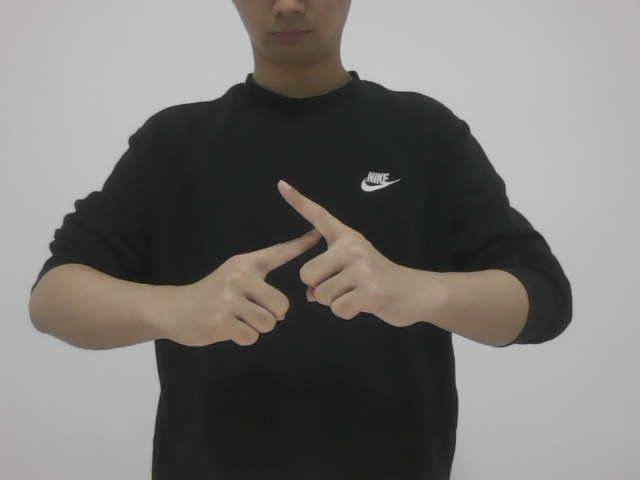peason: (194, 176, 405, 353)
